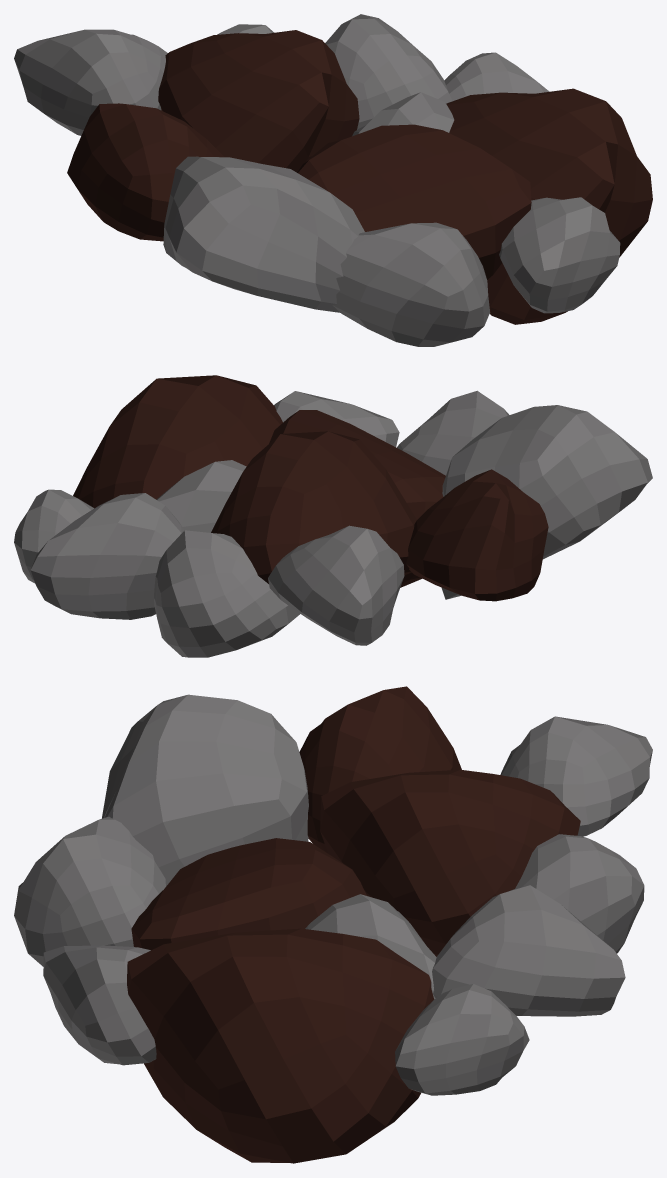
The model's file is Iron.fbx.
3 renders of one model, top to bottom at view 1: azimuth 30°, elevation 25°; view 2: azimuth 150°, elevation 25°; view 3: azimuth 270°, elevation 25°, orthographic. The views are drawn at different scales.
Parts seen in each view (by area): view 1: rock, Main 3, Main 1, Main 2, rock.002, Main, rock.004, rock.003, rock.007, rock.006, rock.001; view 2: Main 3, rock, Main 1, Main, rock.007, rock.005, rock.004, Main 2, rock.002, rock.001, rock.006, rock.003; view 3: Main 1, Main 3, rock, rock.007, Main 2, rock.002, Main, rock.004, rock.006, rock.003, rock.005, rock.001.
Part boxes in pixels (bbox=[...]): rock: bbox=[163, 156, 364, 312]; Main 3: bbox=[158, 30, 359, 172]; Main 1: bbox=[446, 88, 652, 324]; Main 2: bbox=[297, 124, 531, 279]; rock.002: bbox=[332, 222, 490, 346]; Main: bbox=[67, 103, 224, 241]; rock.004: bbox=[14, 29, 167, 135]; rock.003: bbox=[499, 197, 620, 313]; rock.007: bbox=[325, 14, 452, 129]; rock.006: bbox=[444, 52, 549, 100]; rock.001: bbox=[352, 92, 454, 136]; Main 3: bbox=[211, 431, 416, 583]; rock: bbox=[441, 405, 652, 599]; Main 1: bbox=[73, 375, 282, 508]; Main: bbox=[406, 469, 548, 601]; rock.007: bbox=[30, 493, 184, 619]; rock.005: bbox=[154, 530, 300, 657]; rock.004: bbox=[268, 525, 404, 645]; Main 2: bbox=[269, 410, 445, 587]; rock.002: bbox=[396, 390, 509, 475]; rock.001: bbox=[156, 460, 246, 532]; rock.006: bbox=[14, 489, 93, 583]; rock.003: bbox=[274, 391, 399, 447]; Main 1: bbox=[127, 928, 434, 1163]; Main 3: bbox=[320, 769, 580, 956]; rock: bbox=[102, 694, 308, 886]; rock.007: bbox=[432, 885, 625, 1016]; Main 2: bbox=[131, 838, 367, 950]; rock.002: bbox=[14, 816, 165, 966]; Main: bbox=[299, 686, 461, 853]; rock.004: bbox=[500, 716, 652, 836]; rock.006: bbox=[395, 984, 529, 1095]; rock.003: bbox=[43, 945, 156, 1065]; rock.005: bbox=[515, 834, 644, 953]; rock.001: bbox=[305, 894, 436, 999].
Size of the model in its own units: 762 by 354 by 753.
